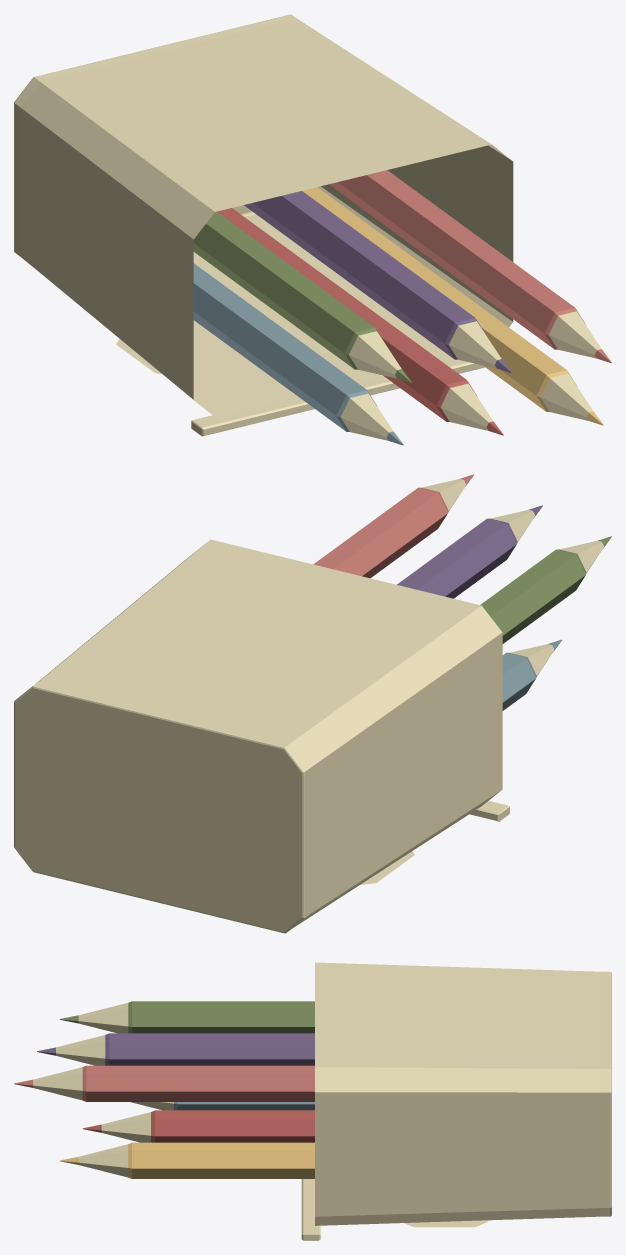
The model's file is pencils.glb.
The picture shows the model from 3 angles, top to bottom: view 1: azimuth 30°, elevation 25°; view 2: azimuth 150°, elevation 25°; view 3: azimuth 270°, elevation 25°; orthographic projection. The views are drawn at different scales.
Visible parts, largest first — view 1: pencils; view 2: pencils; view 3: pencils.
Part boxes in pixels (left/top/right/bottom): pencils: left=14, top=14, right=611, bottom=445; pencils: left=14, top=474, right=611, bottom=933; pencils: left=14, top=962, right=611, bottom=1240.
Size of the model in its own units: 0.075 by 0.048 by 0.157.
